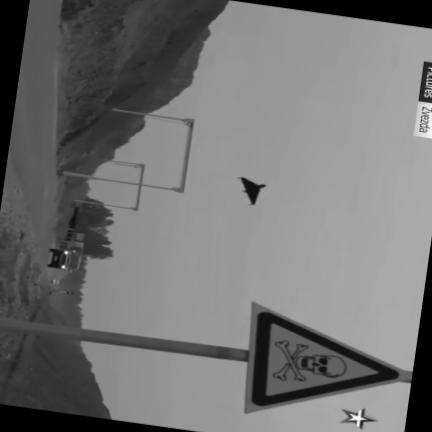Shahed: (237, 178, 264, 205)
